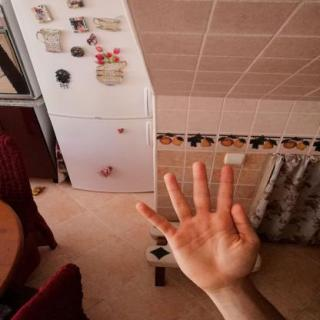SHEEN: (126, 154, 268, 298)
